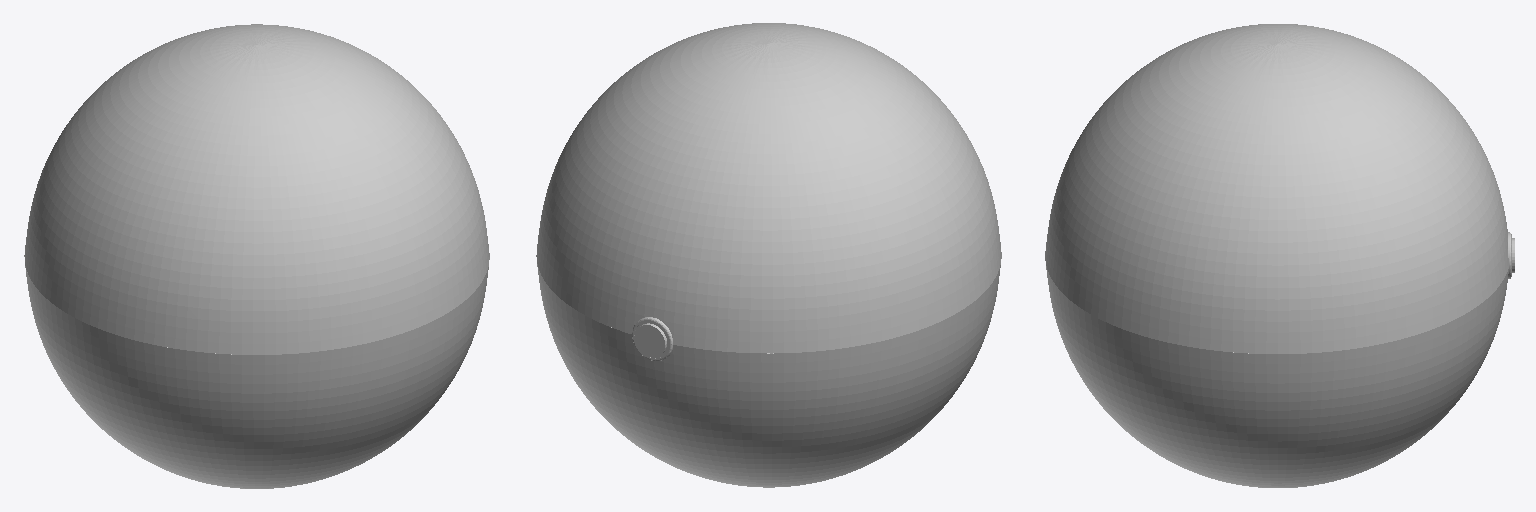
The model's file is POKE BALL.obj.
3 views of the same model, side by side, from view 1: azimuth 30°, elevation 25°; view 2: azimuth 150°, elevation 25°; view 3: azimuth 270°, elevation 25° (orthographic).
Parts seen in each view (by area): view 1: POKE_BALL_BUTTON_Circle, POKE-BALL_BOTTOM_Sphere.002; view 2: POKE_BALL_BUTTON_Circle, POKE-BALL_BOTTOM_Sphere.002; view 3: POKE_BALL_BUTTON_Circle, POKE-BALL_BOTTOM_Sphere.002.
Part boxes in pixels (left/top/right/bottom): POKE_BALL_BUTTON_Circle: left=24, top=24, right=489, bottom=354; POKE-BALL_BOTTOM_Sphere.002: left=24, top=256, right=488, bottom=488; POKE_BALL_BUTTON_Circle: left=536, top=23, right=1001, bottom=360; POKE-BALL_BOTTOM_Sphere.002: left=537, top=264, right=1000, bottom=487; POKE_BALL_BUTTON_Circle: left=1045, top=24, right=1514, bottom=353; POKE-BALL_BOTTOM_Sphere.002: left=1046, top=266, right=1508, bottom=487.
Bounding box in the file's own units: 1.99 × 2 × 2.01.